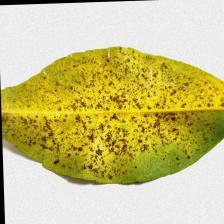canker: (49, 71, 172, 165)
